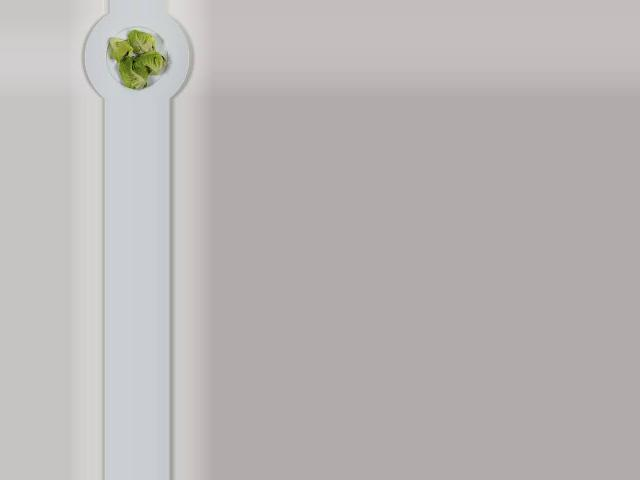lettuce: (107, 31, 167, 95)
